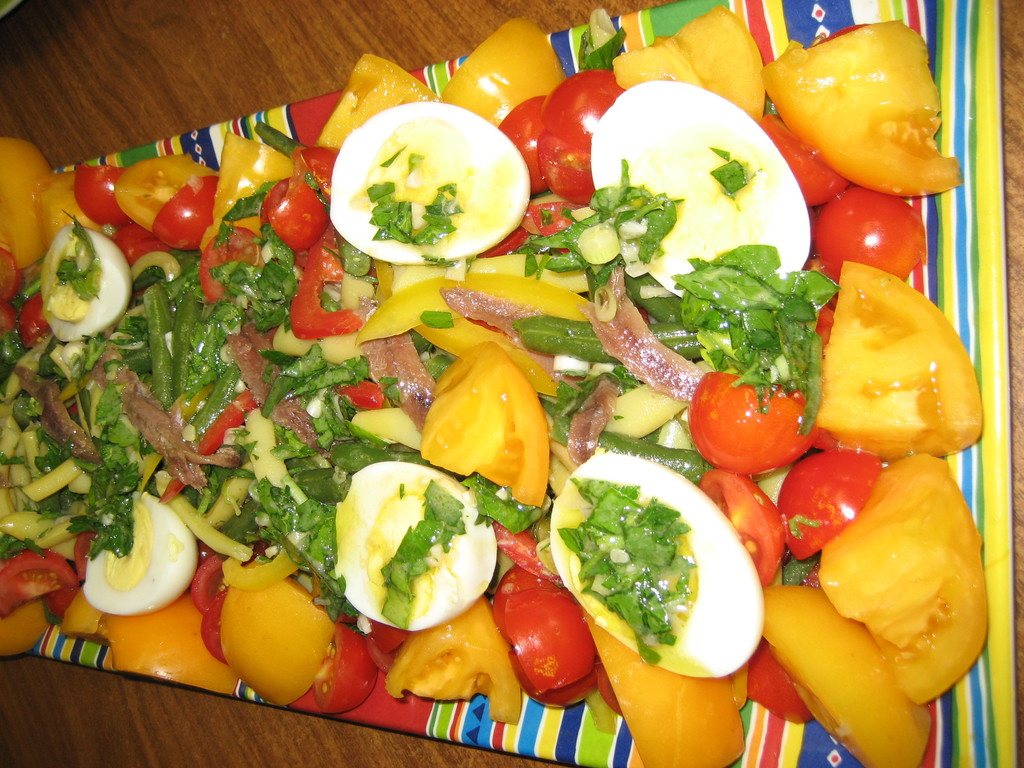Tomato: (539, 65, 627, 199), (770, 446, 878, 555), (696, 368, 800, 478), (817, 182, 924, 288), (688, 466, 784, 580), (503, 588, 593, 686), (757, 110, 842, 208), (498, 88, 554, 198), (310, 624, 379, 712), (0, 549, 78, 618), (257, 178, 327, 254), (150, 173, 218, 247), (72, 161, 130, 224), (190, 556, 224, 663)
